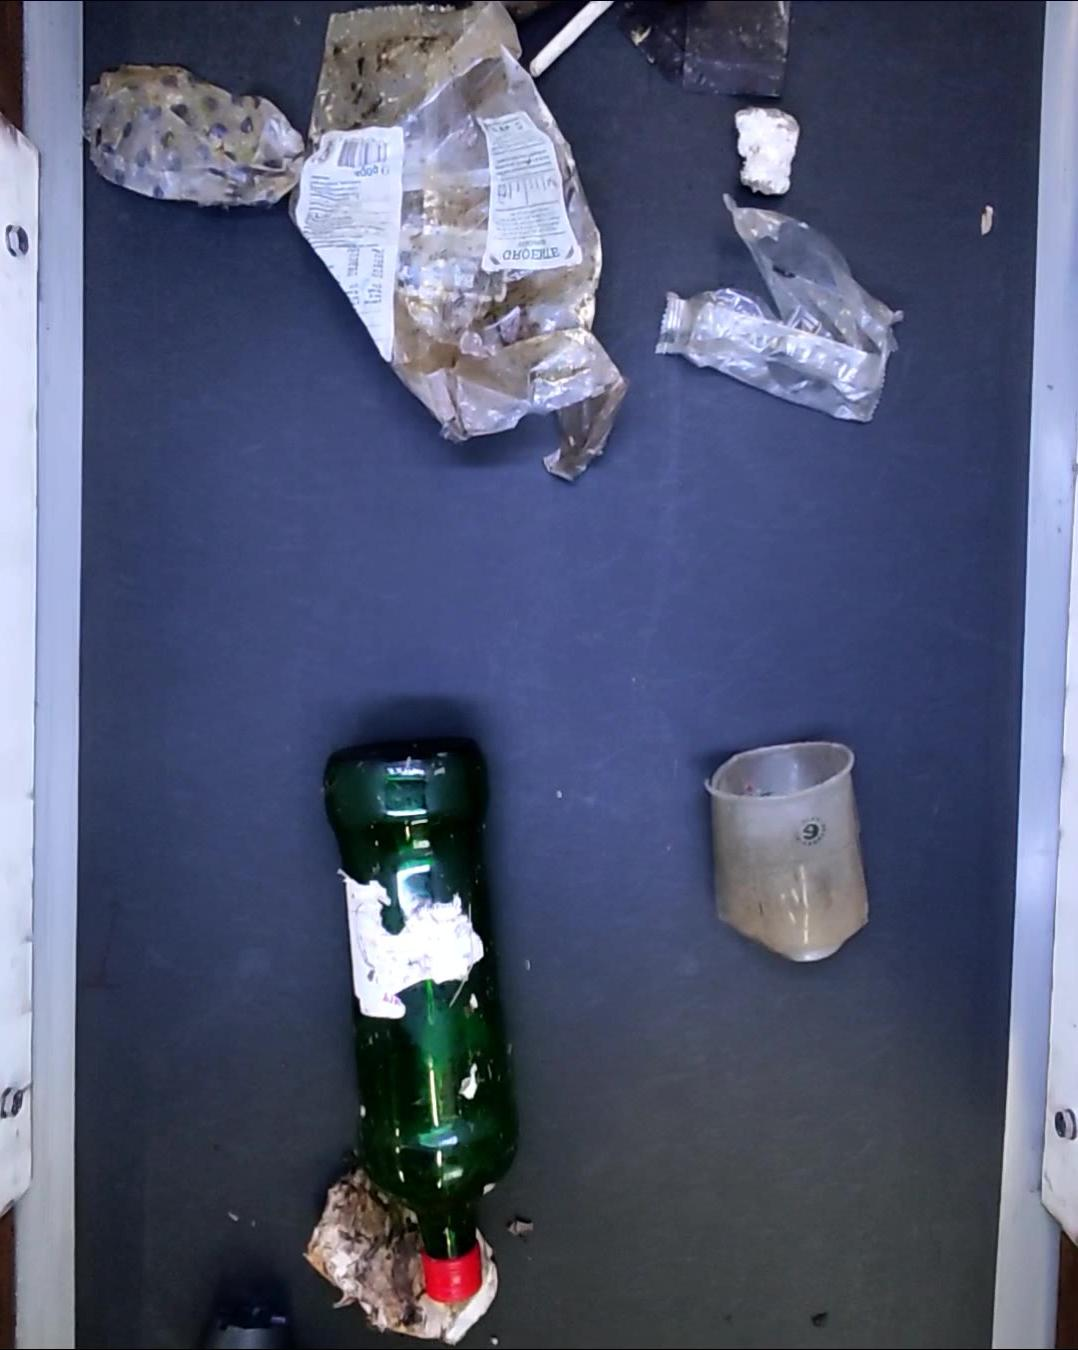Plastic folies of stukken daarvan 2.5- 50 cm: (296, 2, 627, 491), (656, 195, 893, 424)
